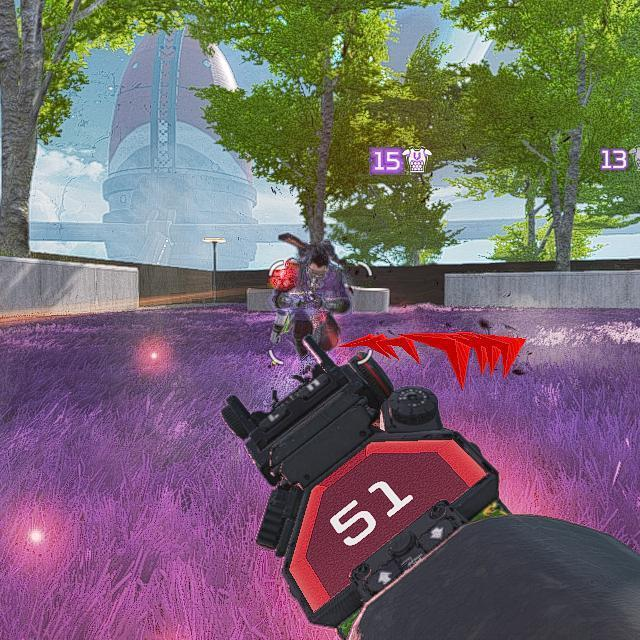avatar: (276, 240, 354, 361)
object: (269, 259, 301, 290)
